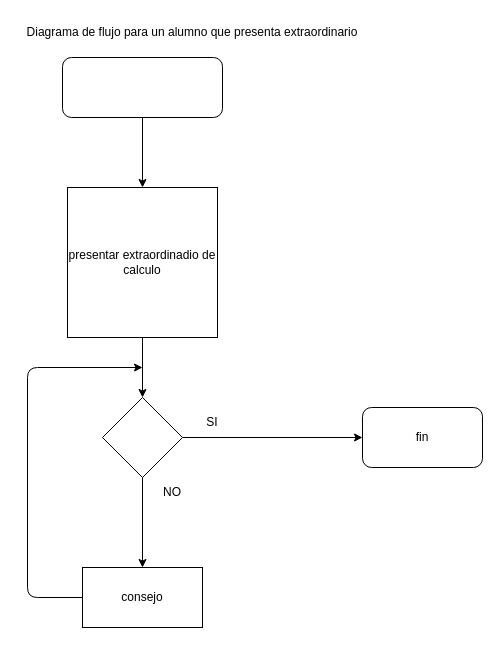
Some shapes in this 500 by 645 pixel diagram are drawn without their labels. The shapes that lost their labels are listed below. From the top down, each one's centre as x and y in pixels, then its label:
At (142,87): "inicio".
At (142,437): "si>=70".
